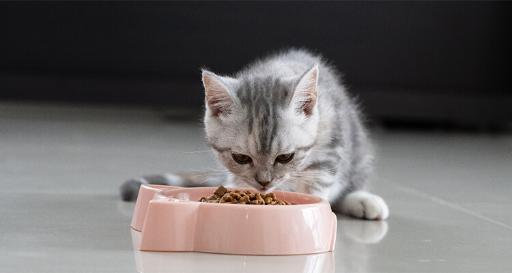cat_eating: (123, 50, 388, 255)
